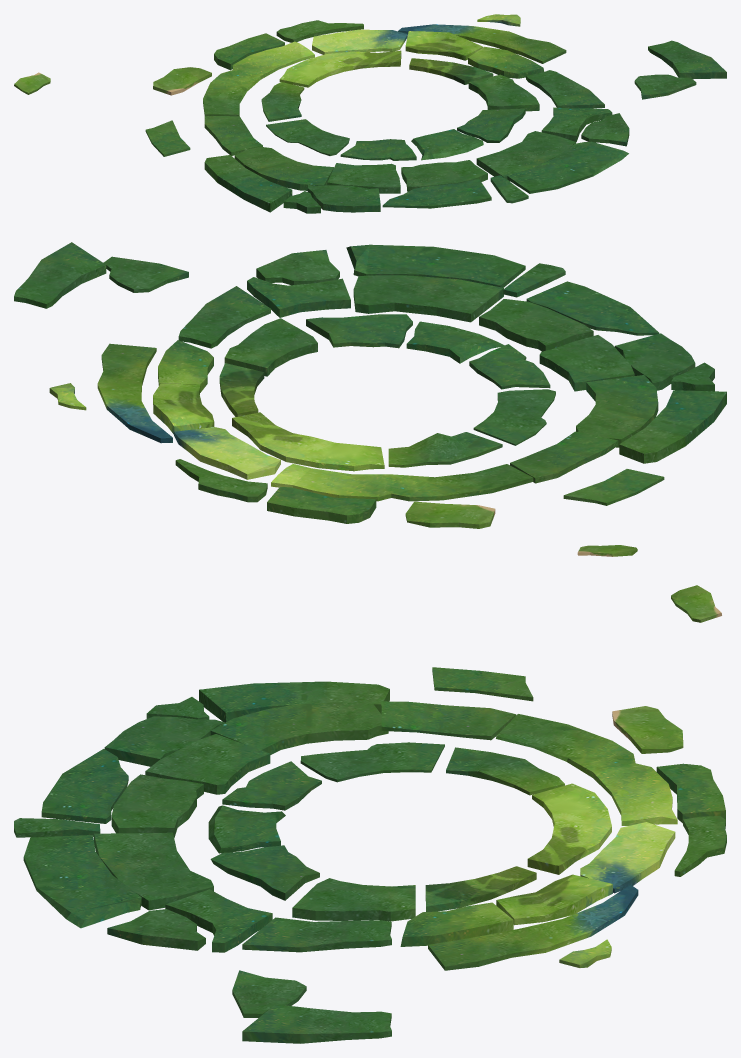
The model's file is denglujiemian_03.FBX.
The picture shows the model from 3 angles, top to bottom: view 1: azimuth 30°, elevation 25°; view 2: azimuth 150°, elevation 25°; view 3: azimuth 270°, elevation 25°; orthographic projection. The views are drawn at different scales.
Visible parts, largest first — view 1: denglujiemian_03; view 2: denglujiemian_03; view 3: denglujiemian_03.
Part boxes in pixels (bbox=[...]): denglujiemian_03: bbox=[14, 14, 726, 213]; denglujiemian_03: bbox=[14, 242, 726, 556]; denglujiemian_03: bbox=[14, 585, 726, 1043].
Bounding box in the file's own units: 1005 × 54.3 × 715.
